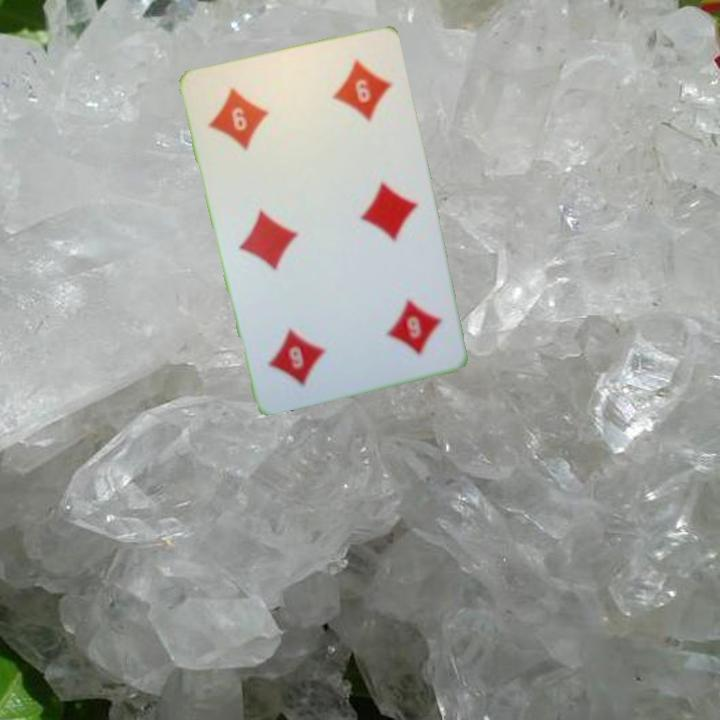d_6.png: (339, 272, 455, 377), (194, 63, 310, 168)
